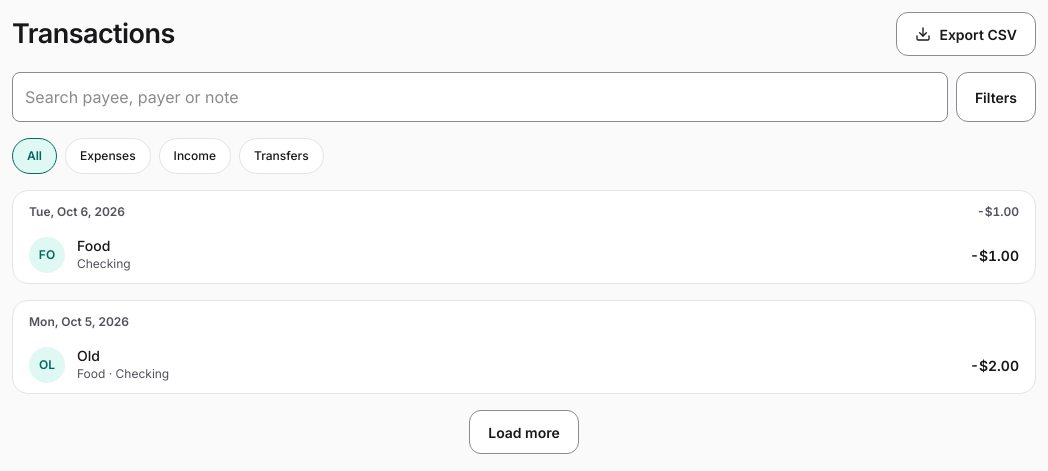
it: days › waits to show the oldest day's net while more entries may come
The width and height of the screenshot is (1048, 471).
Expected: the number of elements with class "tx-net" is 1, [977,204,1019,219]
What coordinates should you click on to do the following:
click the button "Load more"
I would click on:
 (524, 432)
Its box is [469,410,579,454].
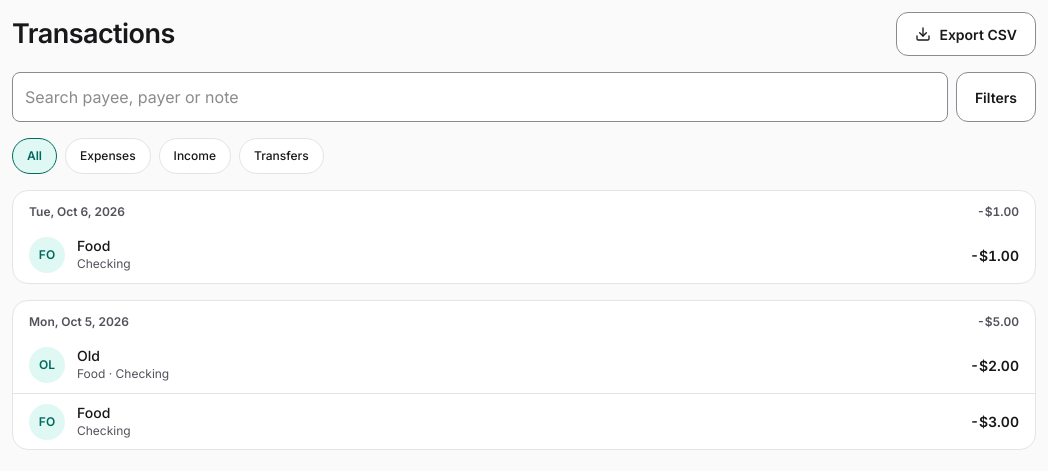
Expected: the text "-$3.00" is shown, [970,413,1019,430]
Expected: the number of elements with class "tx-net" is 2, [977,204,1019,219]; [977,314,1019,329]
Expected: the text "-$5.00" is shown once, [977,314,1019,329]
